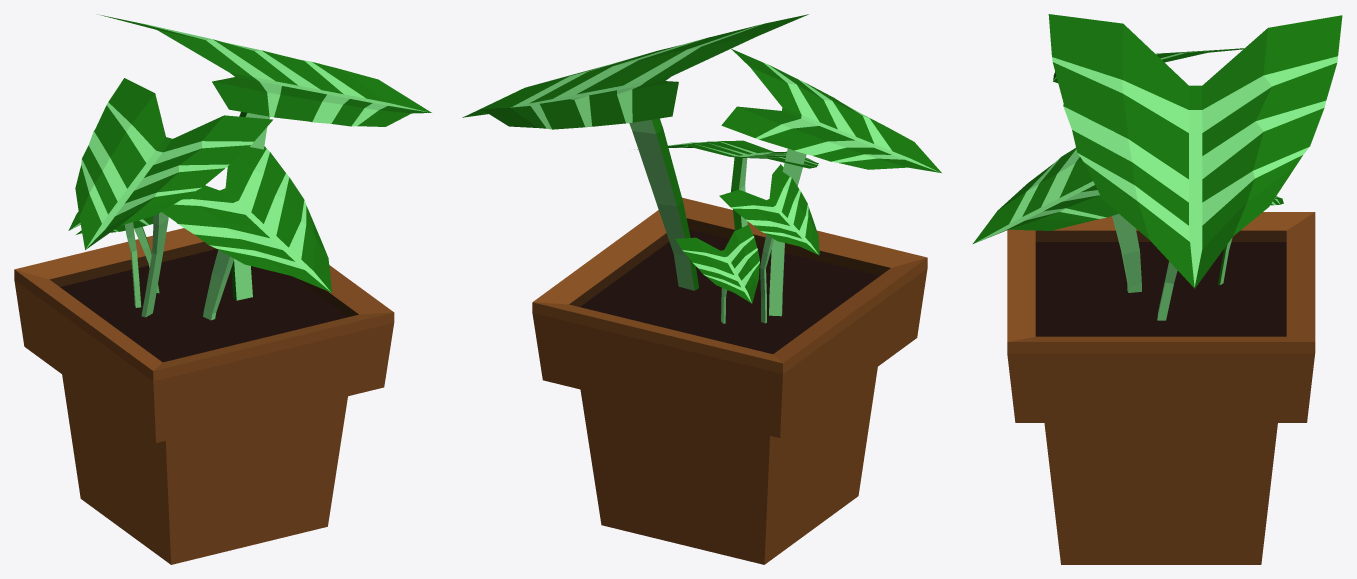
The model's file is (YnZp)PlantaLowPolly.fbx.
3 renders of one model, left to right at view 1: azimuth 30°, elevation 25°; view 2: azimuth 150°, elevation 25°; view 3: azimuth 270°, elevation 25°, orthographic. The views are drawn at different scales.
Parts seen in each view (by area): view 1: Cube, Plane; view 2: Cube, Plane; view 3: Cube, Plane.
Part boxes in pixels (x1,y1,x2,y2): Cube: (14,228,394,564); Plane: (68,14,431,320); Cube: (532,197,927,564); Plane: (462,14,941,323); Cube: (1007,212,1315,564); Plane: (973,14,1342,320).
Bounding box in the file's own units: 413 × 296 × 435.
